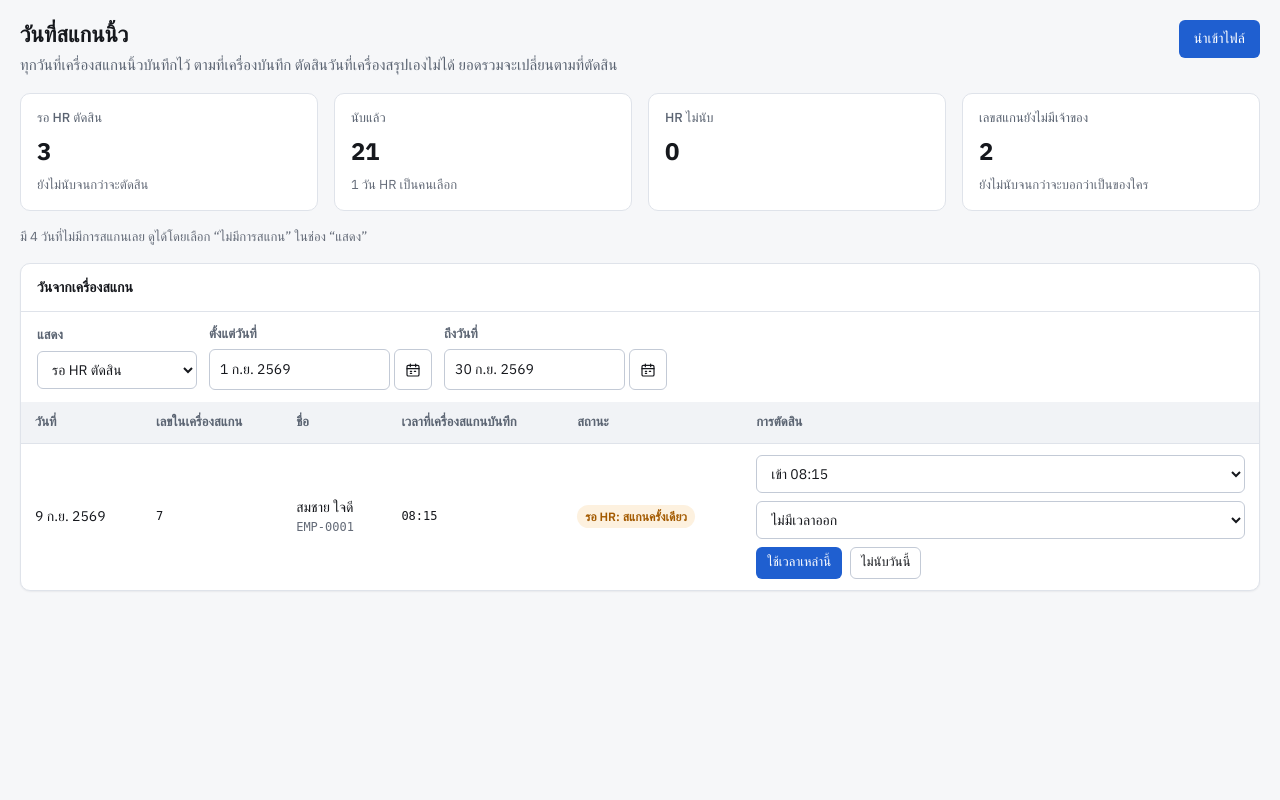
Test case: Reviewing the scanner’s days (CW-061) › says a left-out day is not counted
Check: the cell "08:15" is shown, box [387,443,563,590]
Click the button "ไม่นับวันนี้" at (886, 562), box [850,546,922,578]
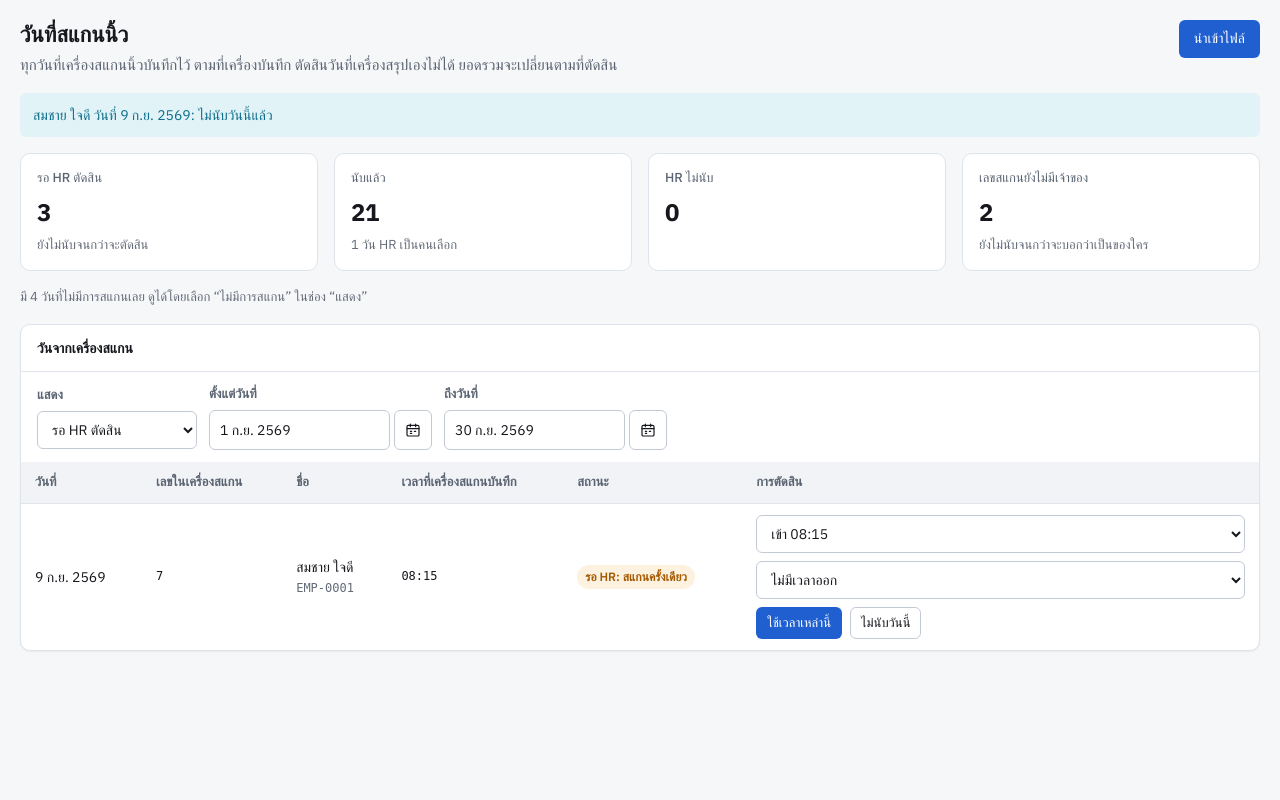
Check: the message reads "สมชาย ใจดี วันที่ 9 ก.ย. 2569: ไม่นับวันนี้แล้ว", box [33,106,273,124]
